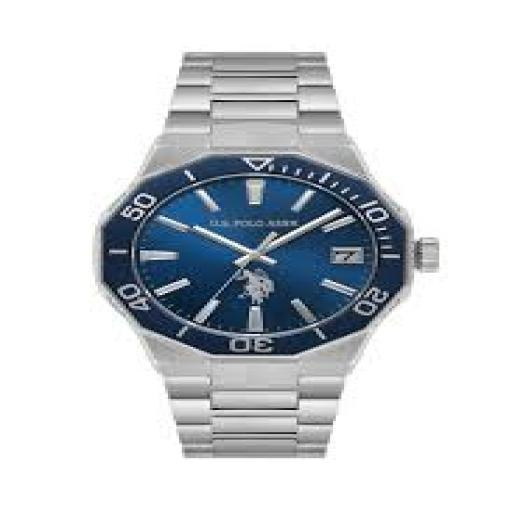KolSaati: (57, 28, 492, 470)
